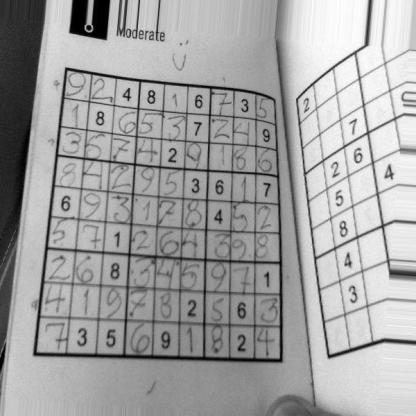sudoku: (31, 65, 285, 381)
